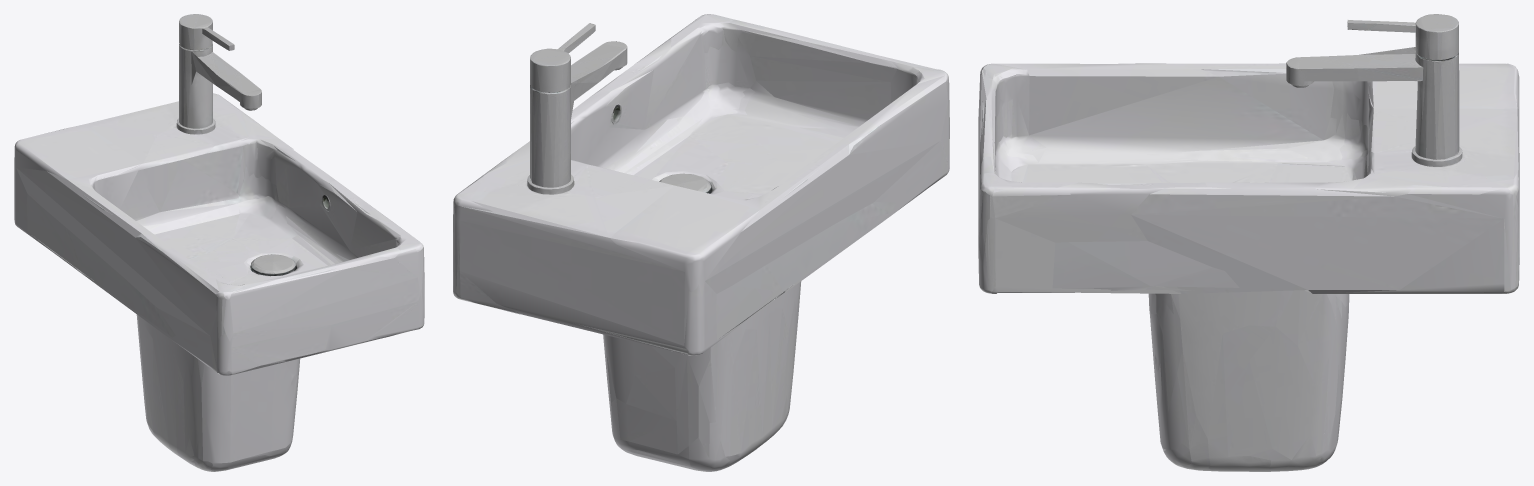
Rendered from sink.glb.
3 views of the same model, side by side, from view 1: azimuth 30°, elevation 25°; view 2: azimuth 150°, elevation 25°; view 3: azimuth 270°, elevation 25° (orthographic). The views are drawn at different scales.
Parts seen in each view (by area): view 1: output_unwrapped; view 2: output_unwrapped; view 3: output_unwrapped.
Part boxes in pixels (bbox=[...]): output_unwrapped: bbox=[14, 14, 424, 471]; output_unwrapped: bbox=[453, 14, 949, 471]; output_unwrapped: bbox=[978, 14, 1519, 471].
Size of the model in its own units: 1.07 by 1.79 by 1.9.
1 material, 1 textured.
